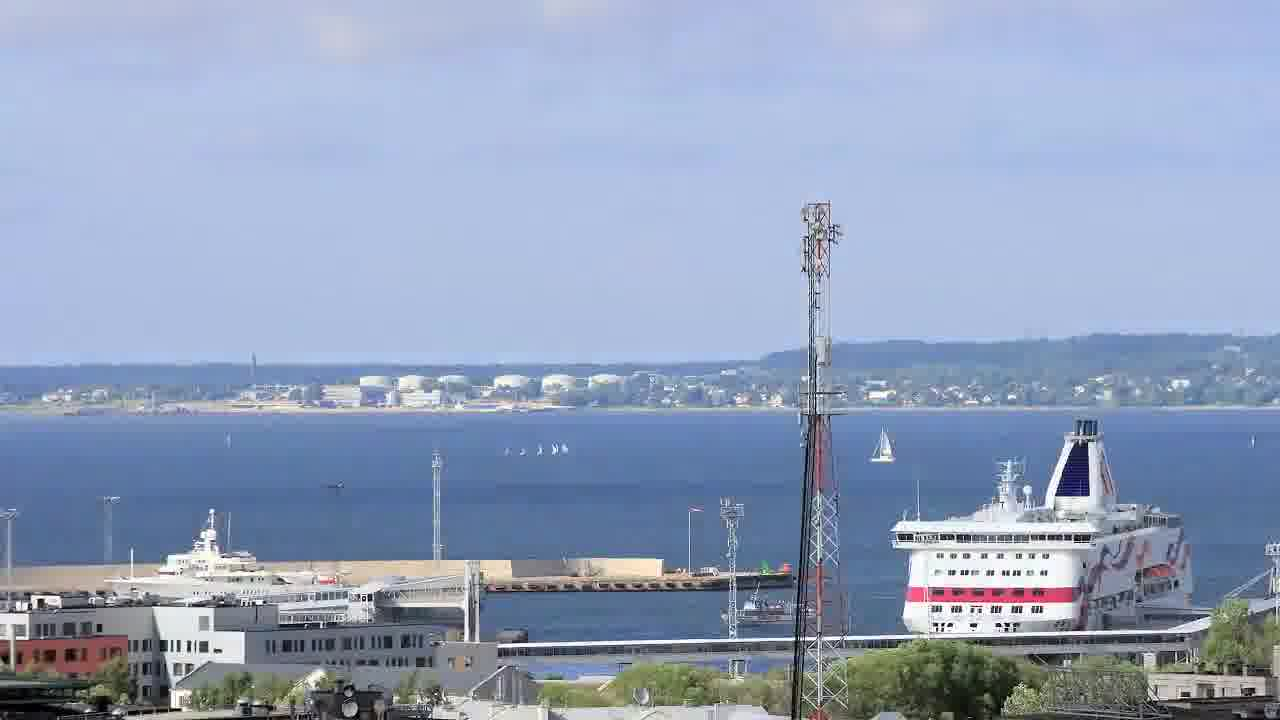type-1: (708, 578, 838, 628)
type-2: (856, 420, 918, 467)
type-3: (868, 415, 1225, 638), (84, 537, 359, 610)
